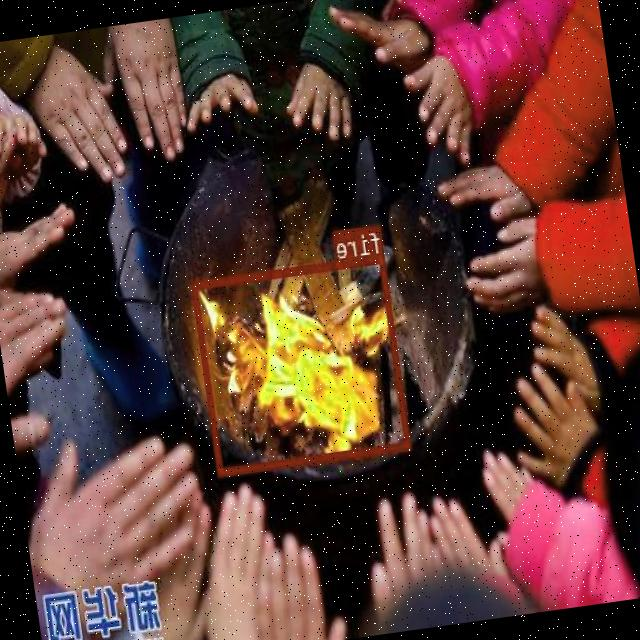fire: (192, 254, 412, 475)
